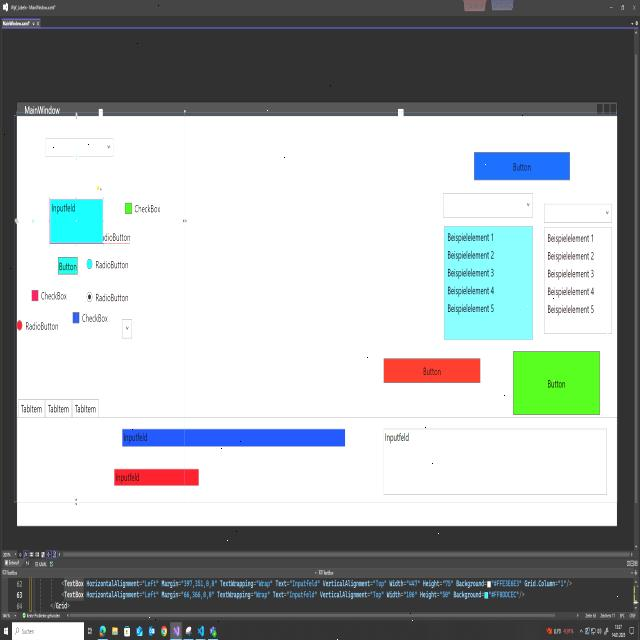button: (511, 348, 604, 419), (472, 147, 572, 185), (381, 353, 483, 389), (56, 251, 80, 280)
checkbox: (124, 200, 133, 216), (31, 288, 39, 302), (72, 311, 80, 325)
dropdownMenu: (441, 189, 534, 345), (542, 201, 614, 338), (44, 134, 115, 160), (121, 316, 133, 340)
input: (382, 426, 609, 499), (120, 425, 348, 451), (48, 195, 104, 247), (112, 465, 201, 490)
label: (95, 259, 128, 270), (95, 293, 129, 303), (25, 321, 59, 331), (134, 203, 161, 214), (41, 290, 68, 301), (81, 313, 109, 323), (112, 232, 131, 242)
menuItem: (546, 302, 594, 316), (447, 230, 494, 244), (446, 301, 496, 314), (546, 231, 595, 244), (447, 248, 495, 261), (447, 284, 494, 297), (447, 266, 495, 278), (547, 286, 595, 298), (547, 250, 595, 262), (547, 268, 594, 280)
radio: (86, 257, 93, 271), (86, 290, 93, 303), (16, 319, 23, 331)
tabControl: (18, 398, 46, 419), (72, 398, 100, 419), (45, 399, 72, 418)
